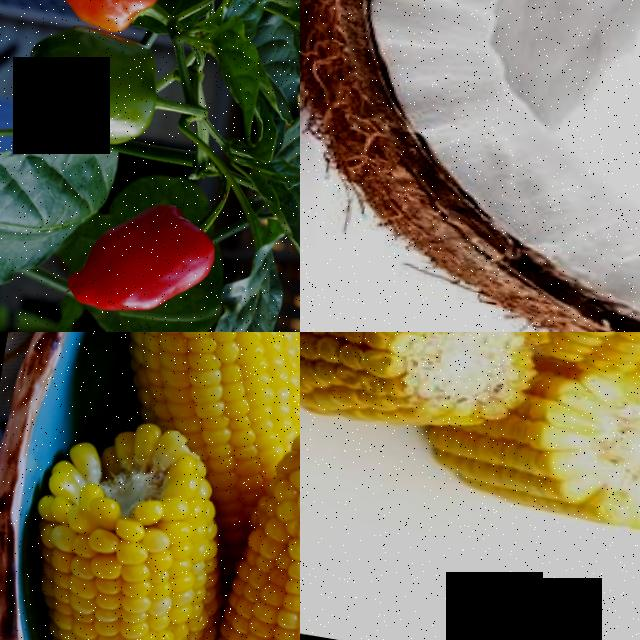chilli: (52, 169, 235, 332)
coconut: (300, 0, 640, 332)
corn: (0, 445, 250, 640), (468, 360, 640, 557), (106, 332, 300, 463), (194, 421, 300, 640), (300, 332, 510, 442)
